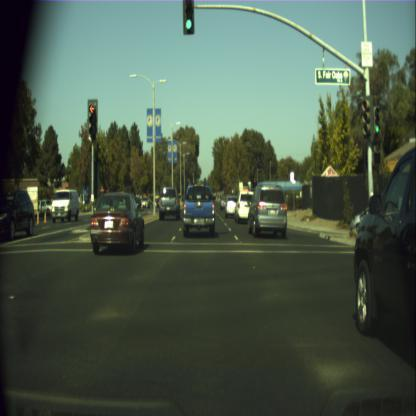Green: (181, 0, 195, 34), (372, 107, 380, 135)
RedLeft: (87, 98, 98, 138)
